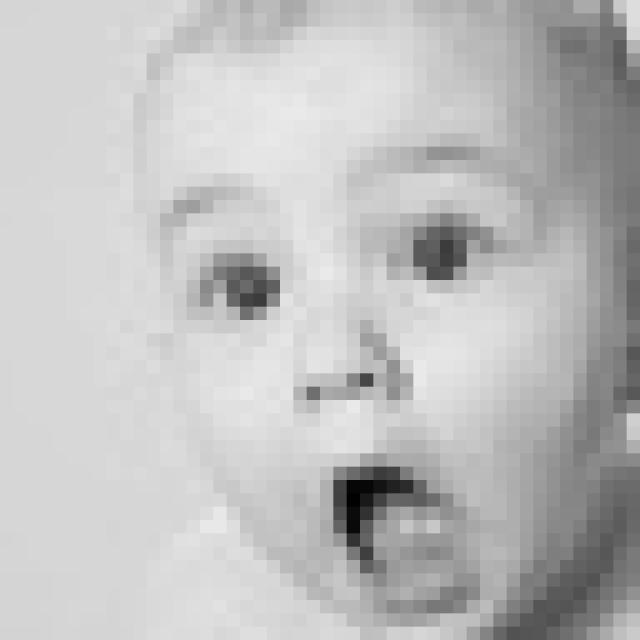surprise: (156, 146, 560, 618)
